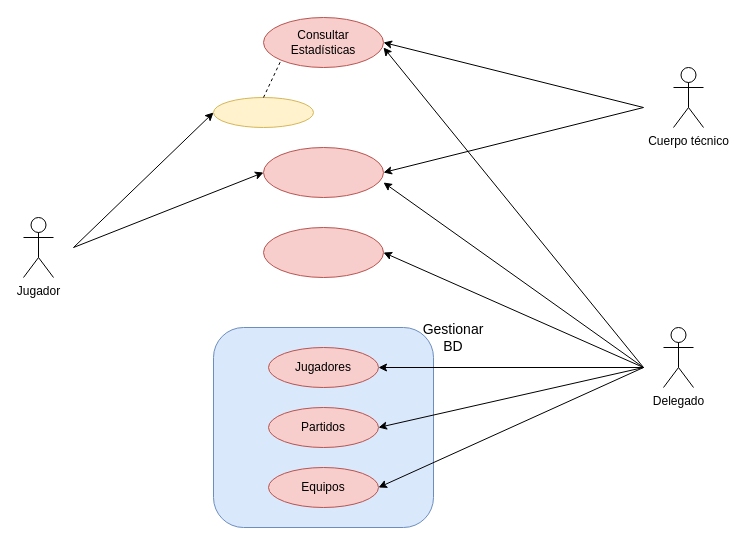
Some shapes in this 746 by 545 pixel diagram are drawn without their labels. The shapes that lost their labels are listed below. From the top down, each one's centre as x and y in pixels, then its label:
At point 263,112: "Estadísticas Personales".
At point 323,172: "Exportar estadísticas".
At point 323,252: "Importar estadísticas".
